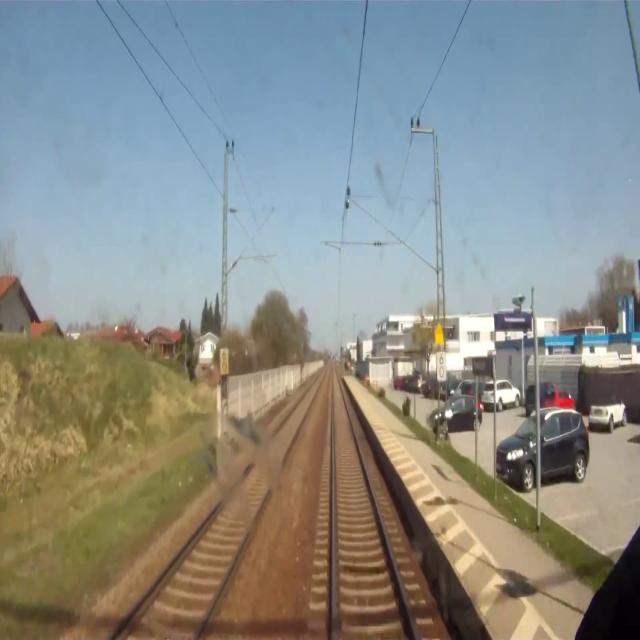rail-track: (119, 367, 327, 639), (334, 373, 411, 639)
